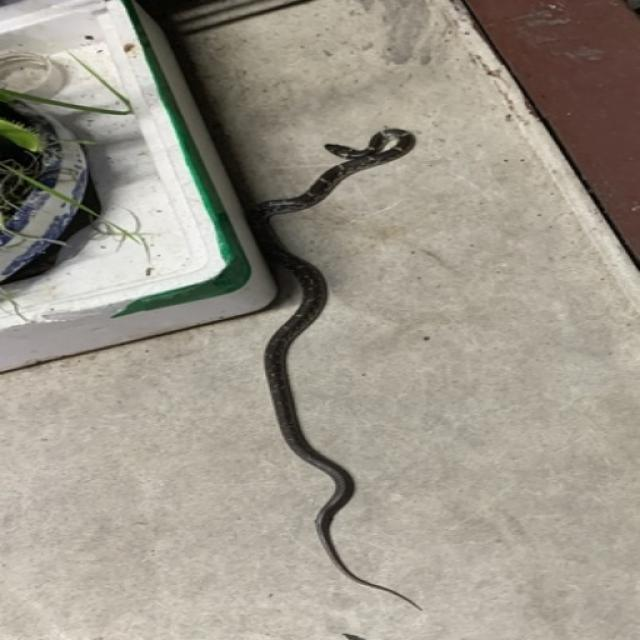snake: (243, 101, 440, 625)
